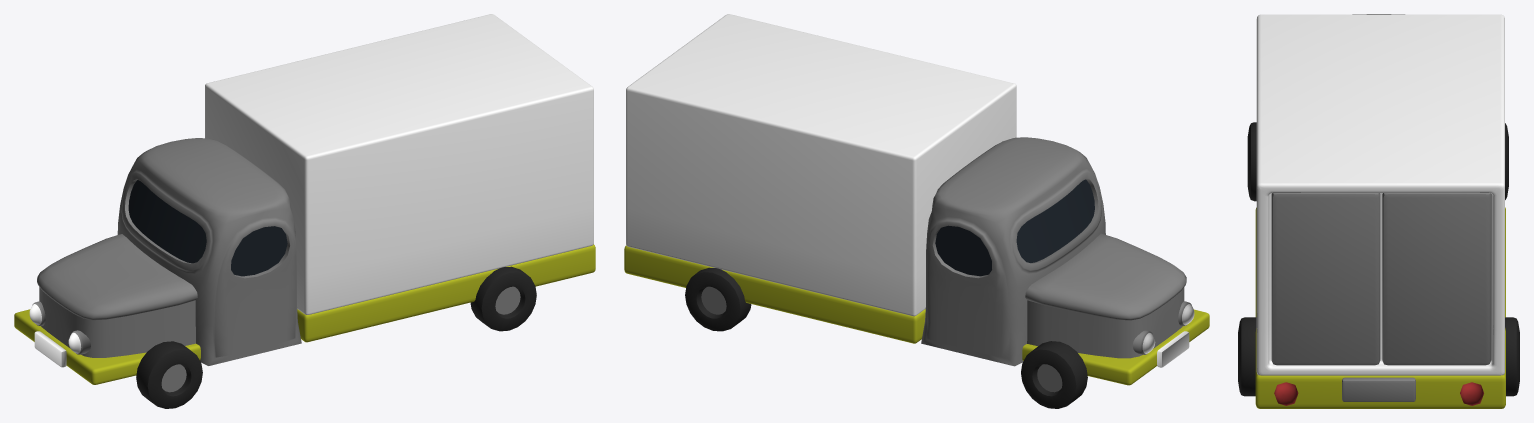
The model's file is SM_truck.fbx.
The picture shows the model from 3 angles, left to right: view 1: azimuth 30°, elevation 25°; view 2: azimuth 150°, elevation 25°; view 3: azimuth 270°, elevation 25°; orthographic projection. The views are drawn at different scales.
Visible parts, largest first — view 1: Object32356; view 2: Object32356; view 3: Object32356.
Part boxes in pixels (x1,y1,x2,y2): Object32356: [14, 14, 595, 408]; Object32356: [624, 14, 1209, 408]; Object32356: [1238, 14, 1519, 408].
Size of the model in its own units: 282 by 115 by 112.
